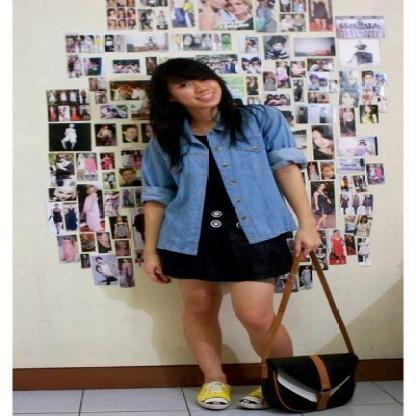bag: (252, 249, 358, 415)
dress: (156, 149, 295, 282)
shirt: (129, 112, 309, 254)
shoe: (198, 381, 228, 400)
